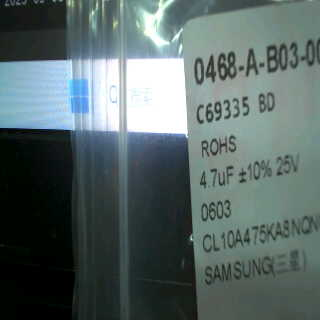4.7uF: (193, 162, 236, 192)
